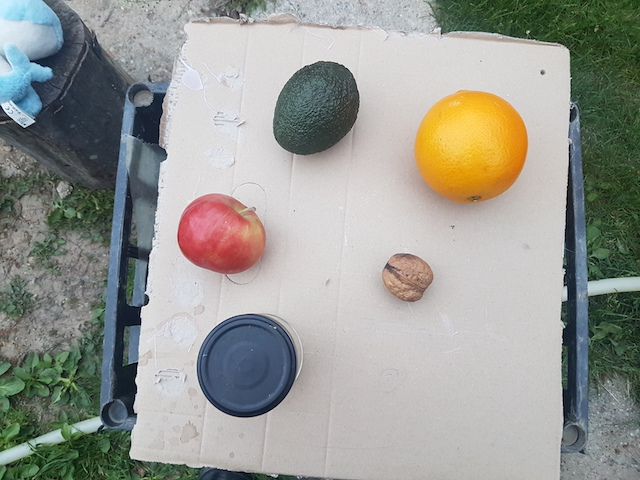apple: (172, 190, 273, 275)
avocado: (270, 58, 365, 156)
nut: (380, 249, 435, 303)
orange: (408, 89, 527, 206)
recipient: (192, 311, 298, 419)
